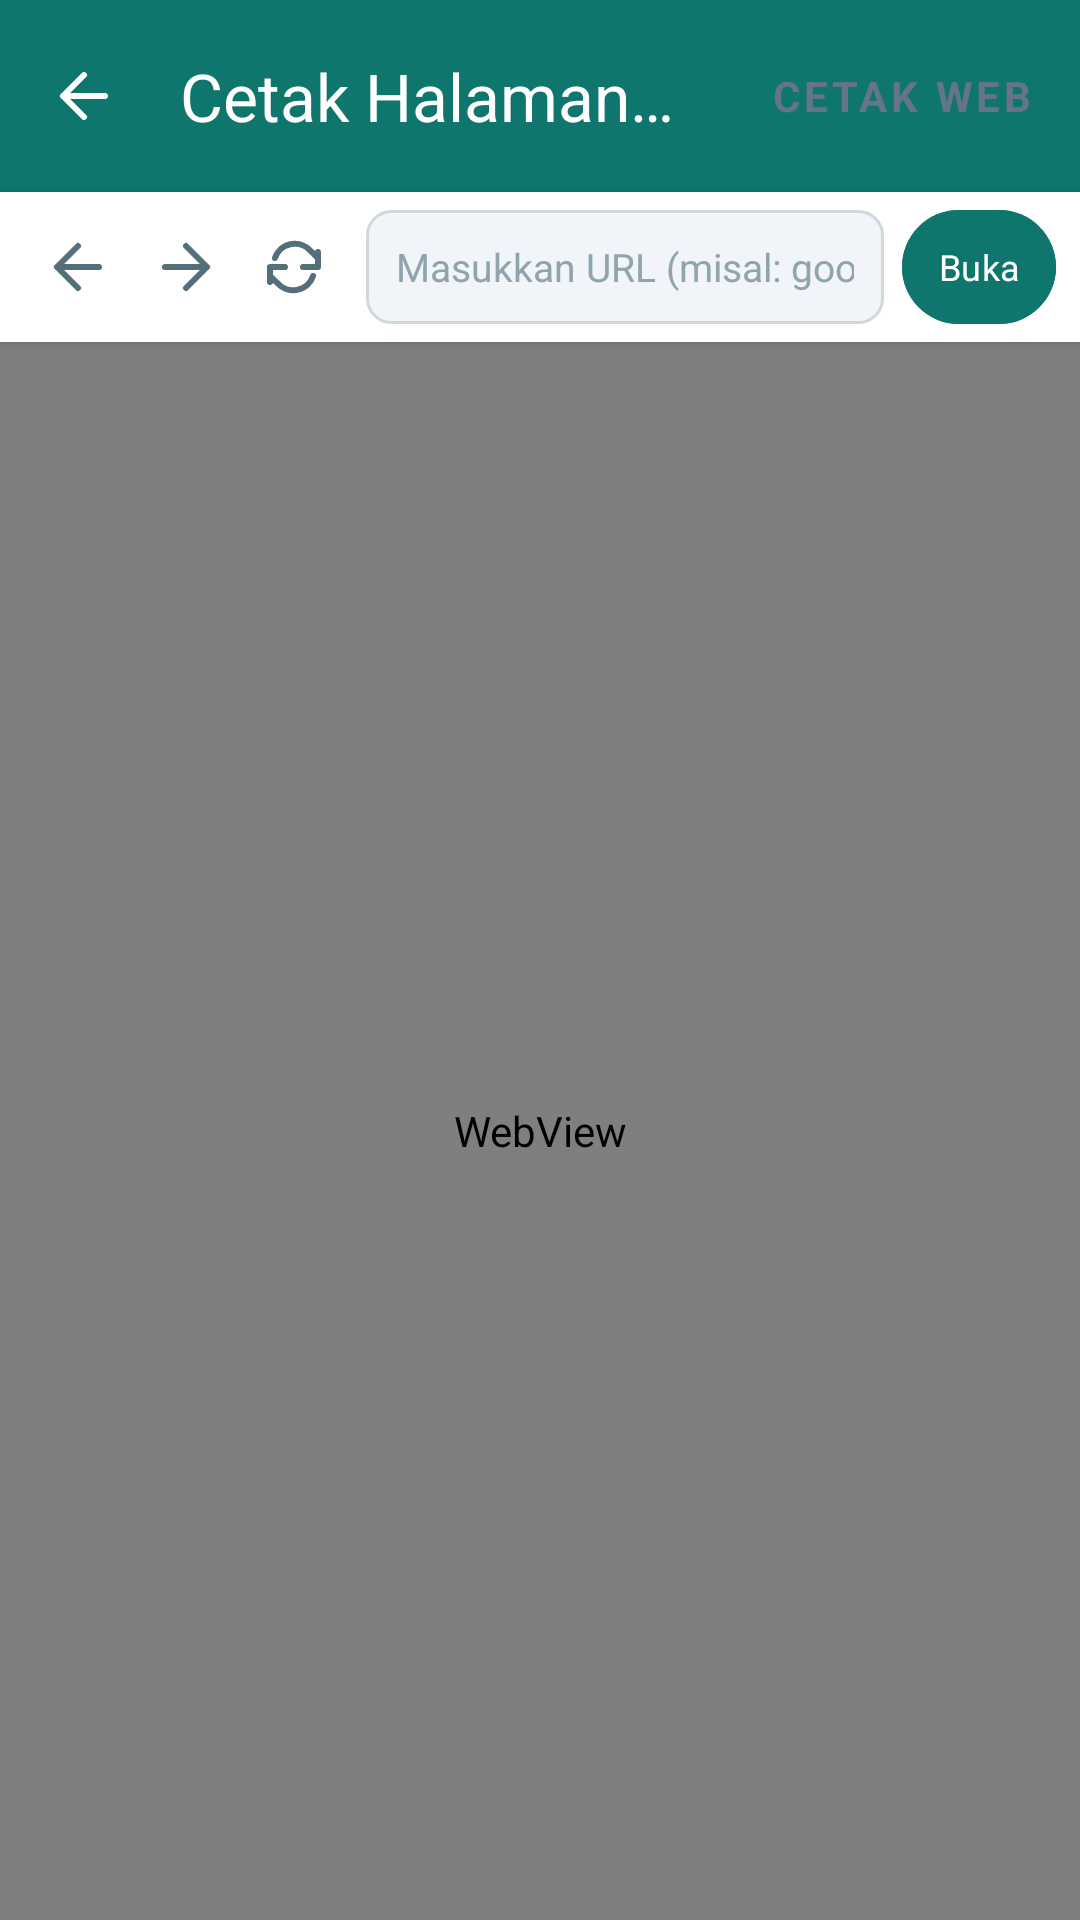

Icon click points for this 1080 × 1920 phone screenshot, format [x,y]:
Kembali: [78,267]
Maju: [186,267]
Muat ulang: [294,267]
